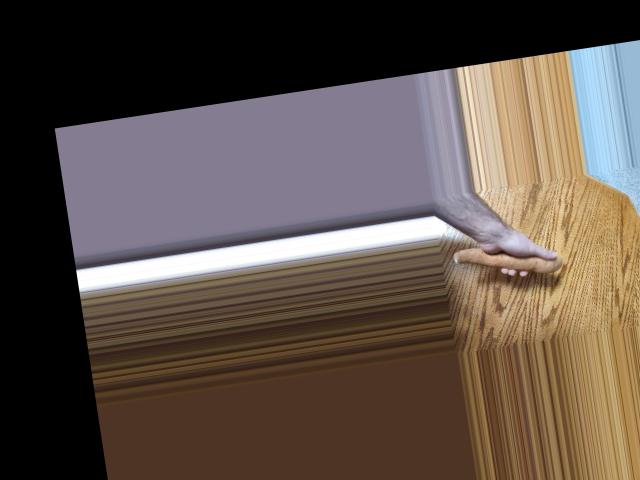sweet_potato: (451, 233, 562, 287)
